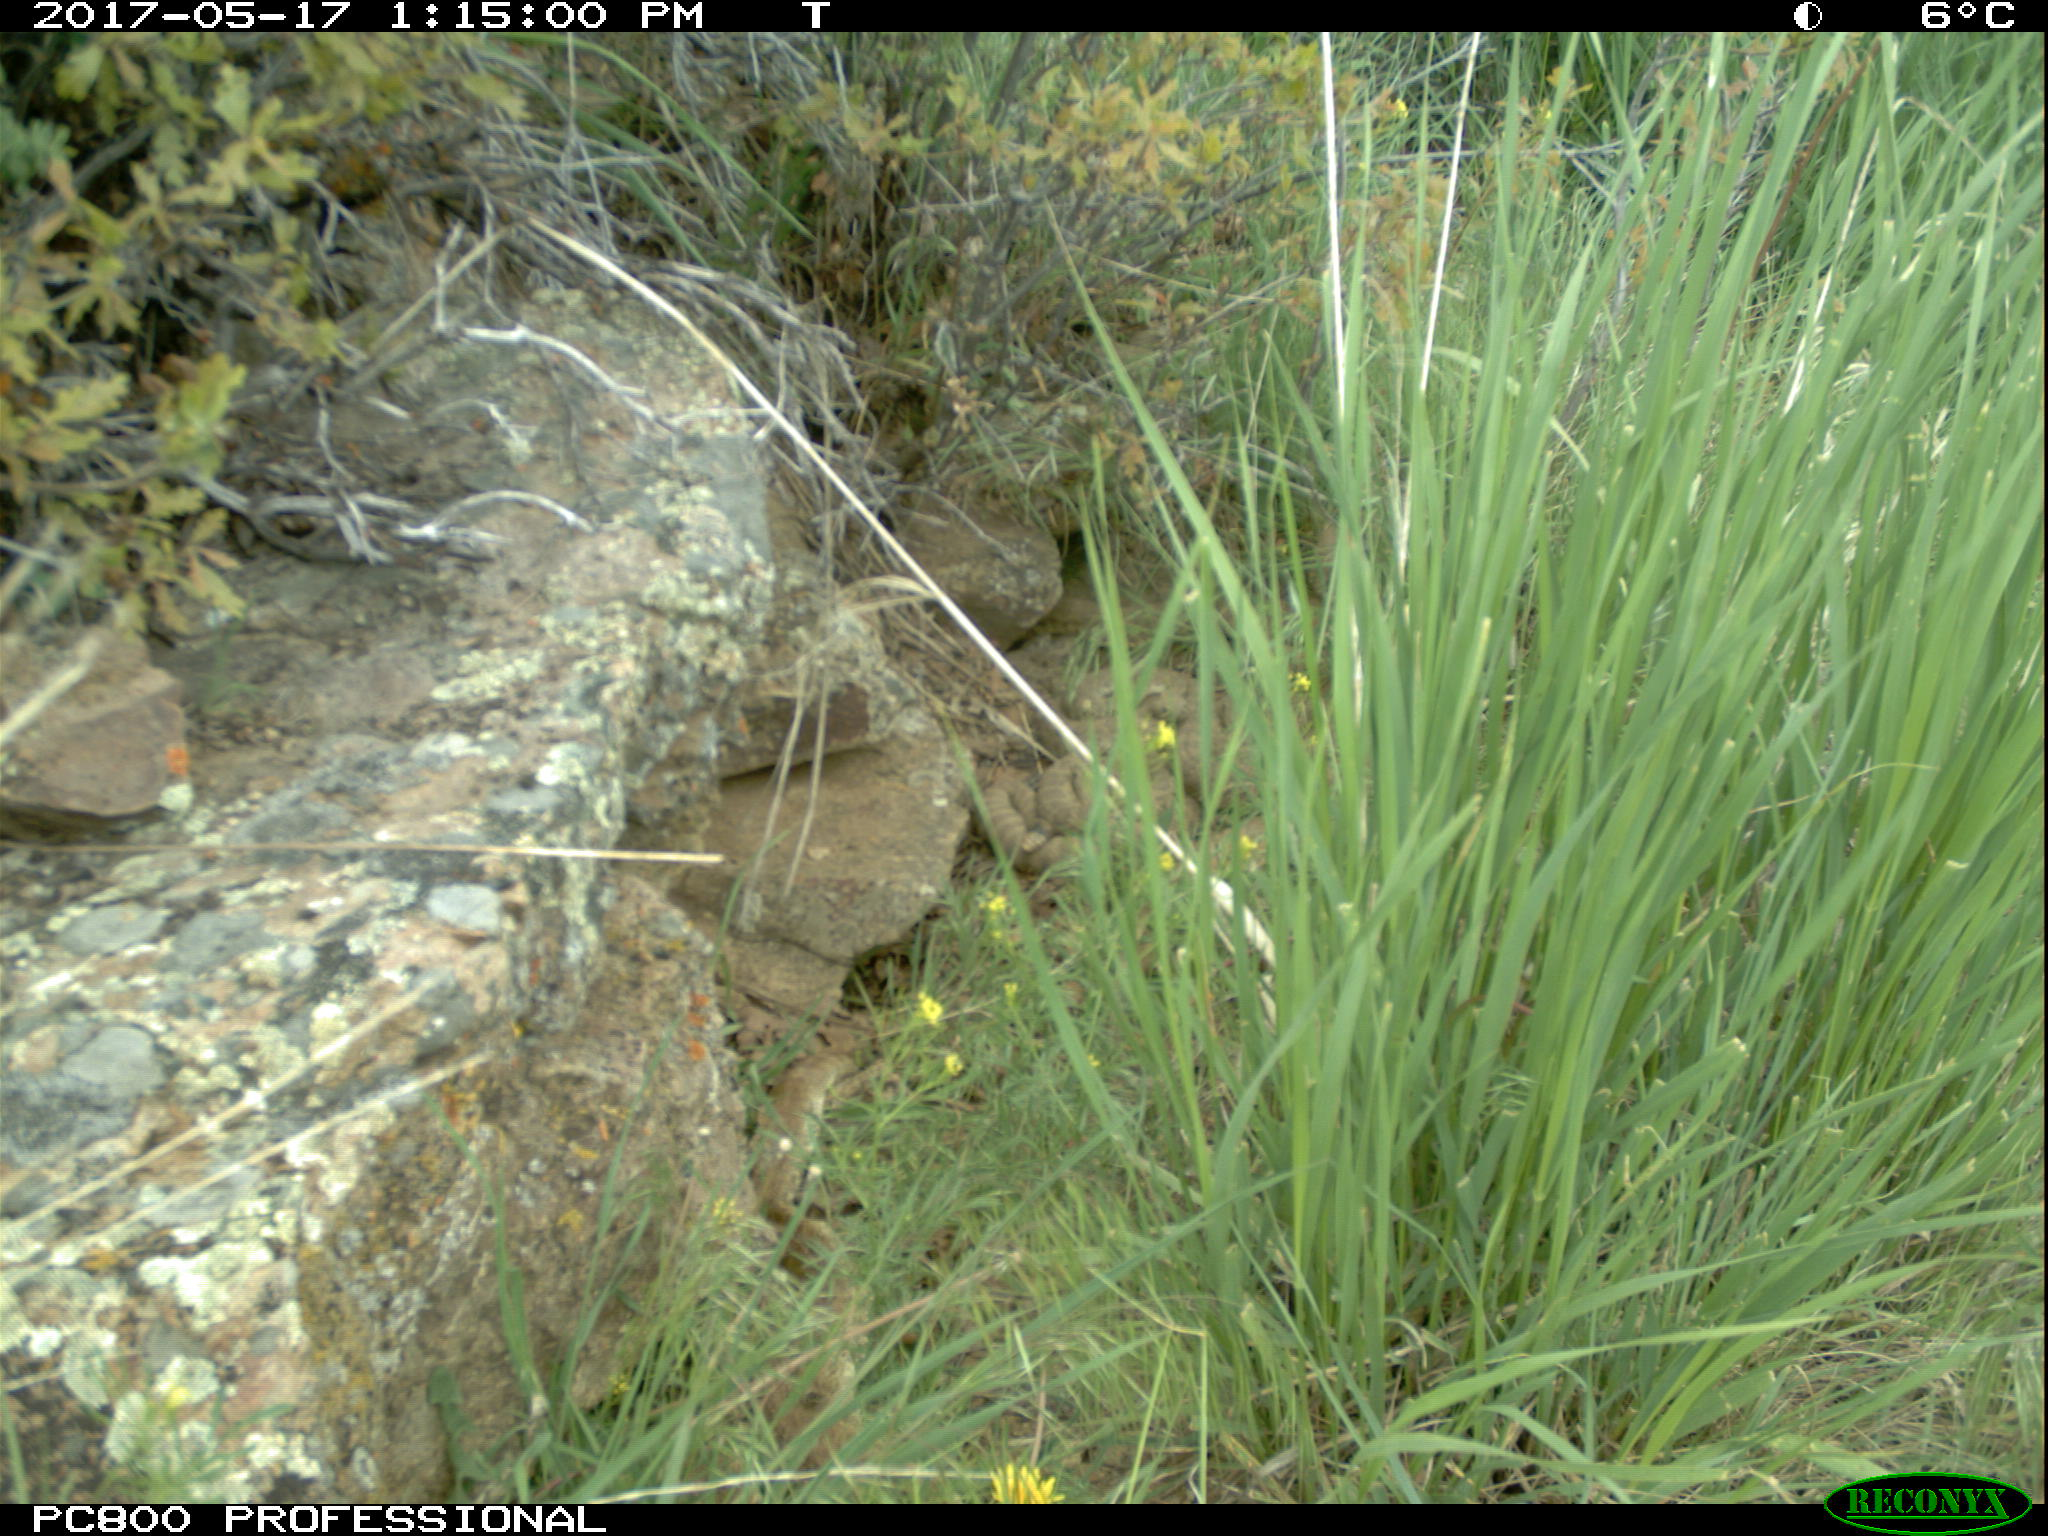snake: (753, 1050, 863, 1439), (1076, 658, 1263, 816), (968, 749, 1188, 878)
